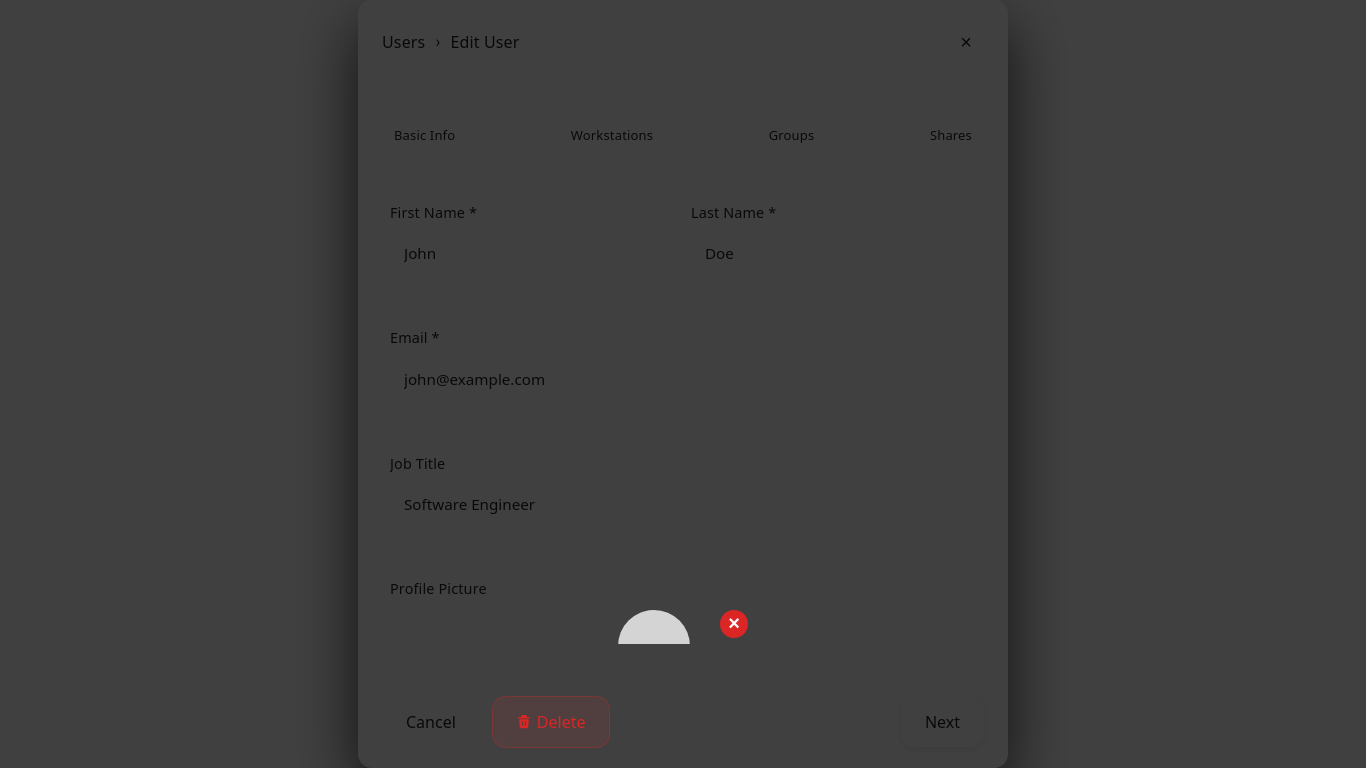
Test case: EmployeesModal › Basic Info Step › should remove profile image when remove button is clicked
The width and height of the screenshot is (1366, 768).
Note: Click remove button
Click the button "×" below "Profile Picture" at (734, 624), box [720,610,748,638]
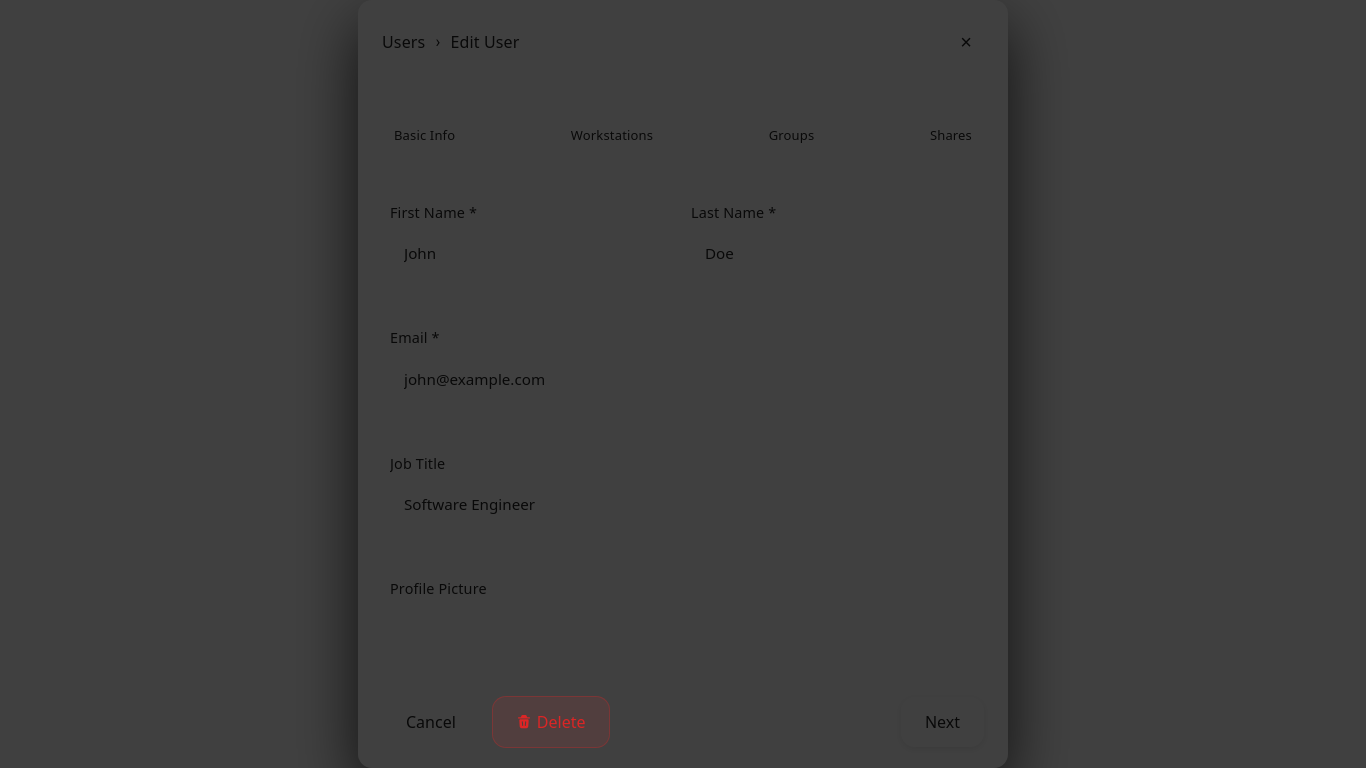
Expected: the picture with alt text "Profile" is gone
